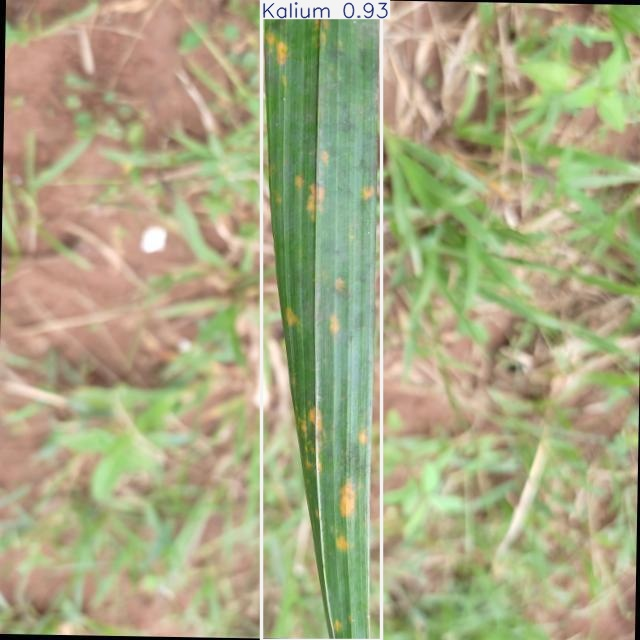Kalium: (262, 0, 382, 640)
